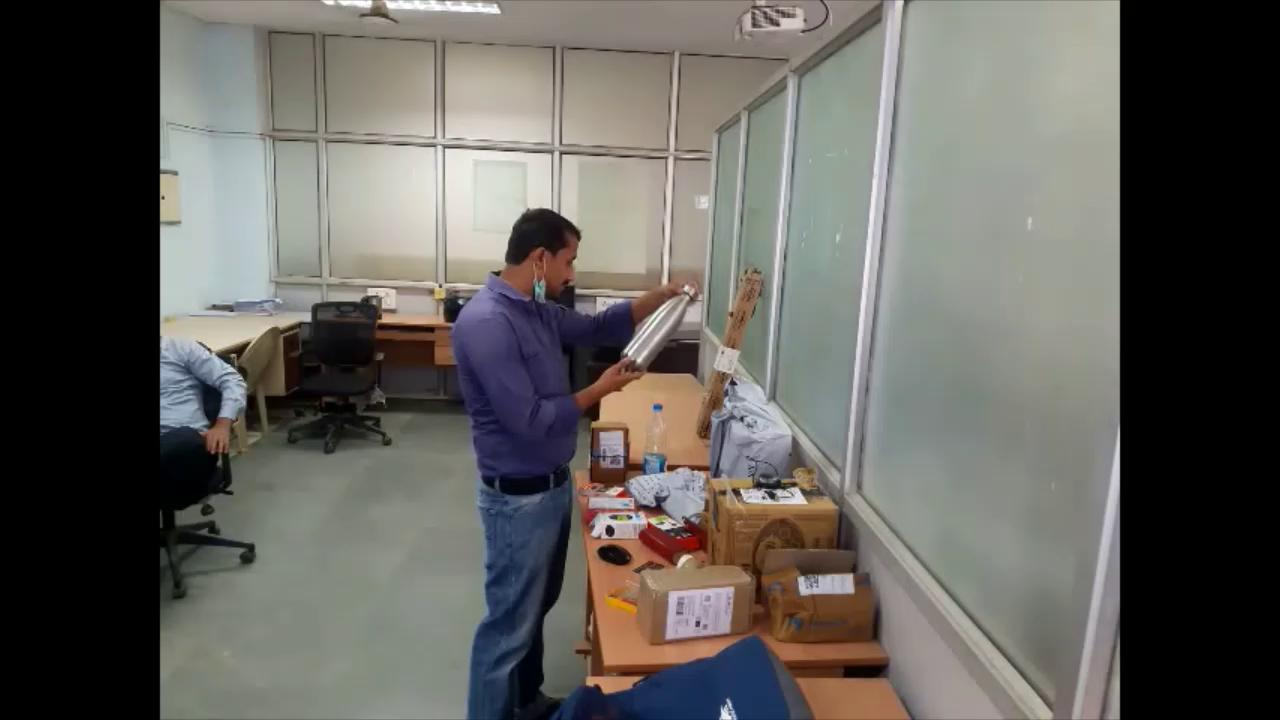Normal: (443, 203, 700, 716)
